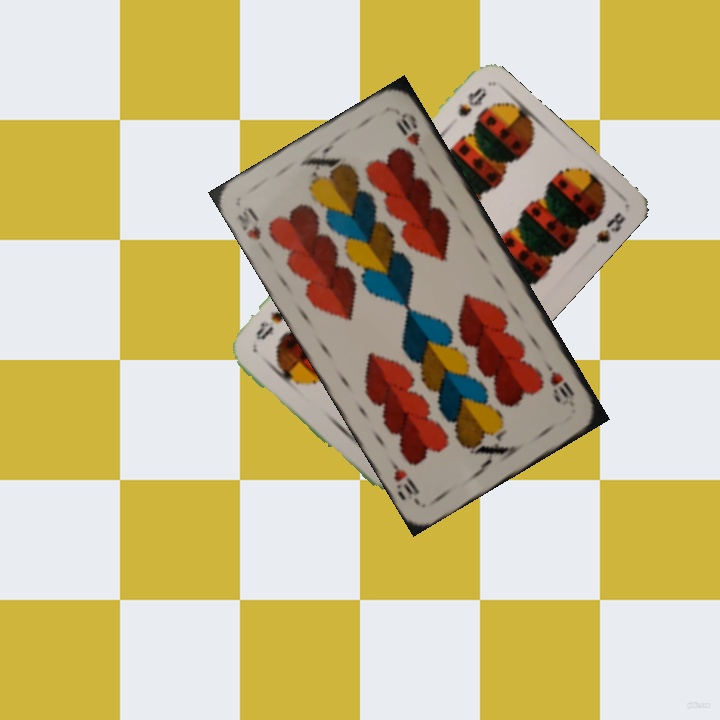H10: (540, 357, 577, 401), (233, 202, 264, 242)
S8: (454, 83, 489, 119)
